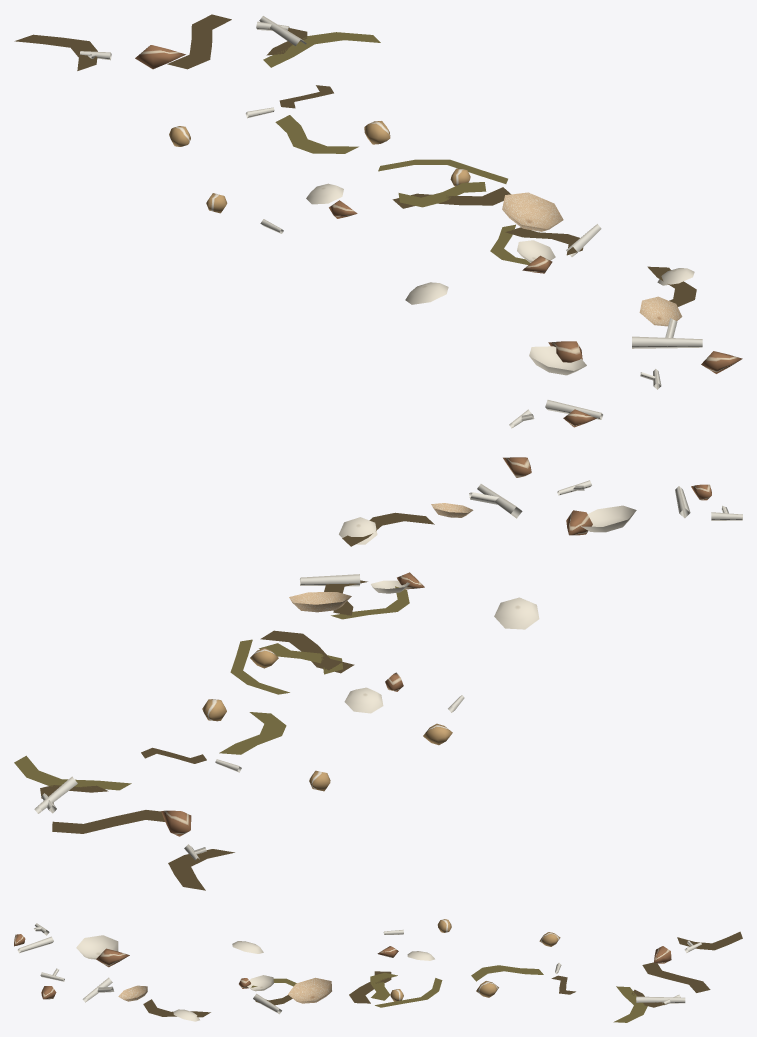
The picture shows the model from 3 angles, top to bottom: view 1: azimuth 30°, elevation 25°; view 2: azimuth 150°, elevation 25°; view 3: azimuth 270°, elevation 25°; orthographic projection. The views are drawn at different scales.
Visible parts, largest first — view 1: debris; view 2: debris; view 3: debris.
Boxes of the visible parts, box(x1,y1,x2,y2) form: debris: box(14, 14, 742, 428); debris: box(14, 457, 742, 890); debris: box(14, 919, 742, 1022).
Bounding box in the file's own units: 0.7672 × 0.0691 × 2.36.
Materials: 1 (1 with a texture image).
